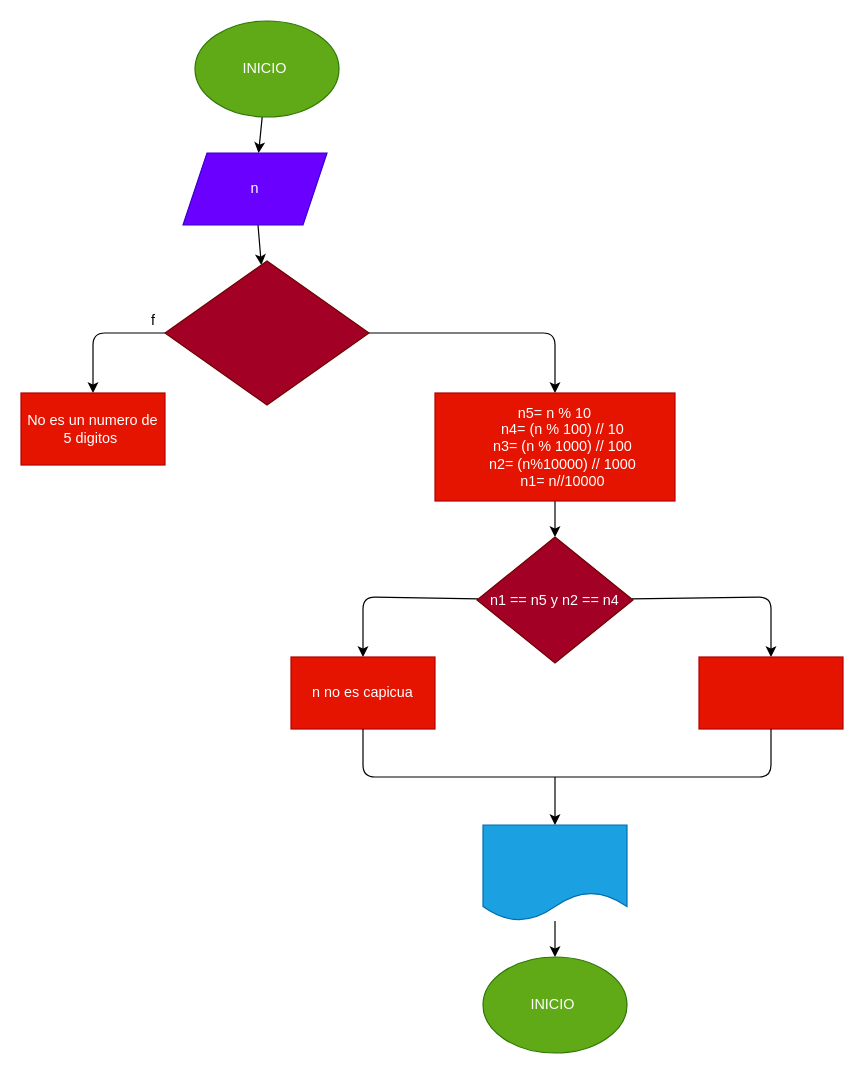
This 864x1074 diagram has some shape labels left out. The box of each missing label's shape, as (x1, y1, x2, y2) in pixels:
capicua: (482, 824, 627, 921)
n >= 10000 y n <= 99999: (164, 260, 369, 405)
n es capicua: (698, 656, 843, 729)
